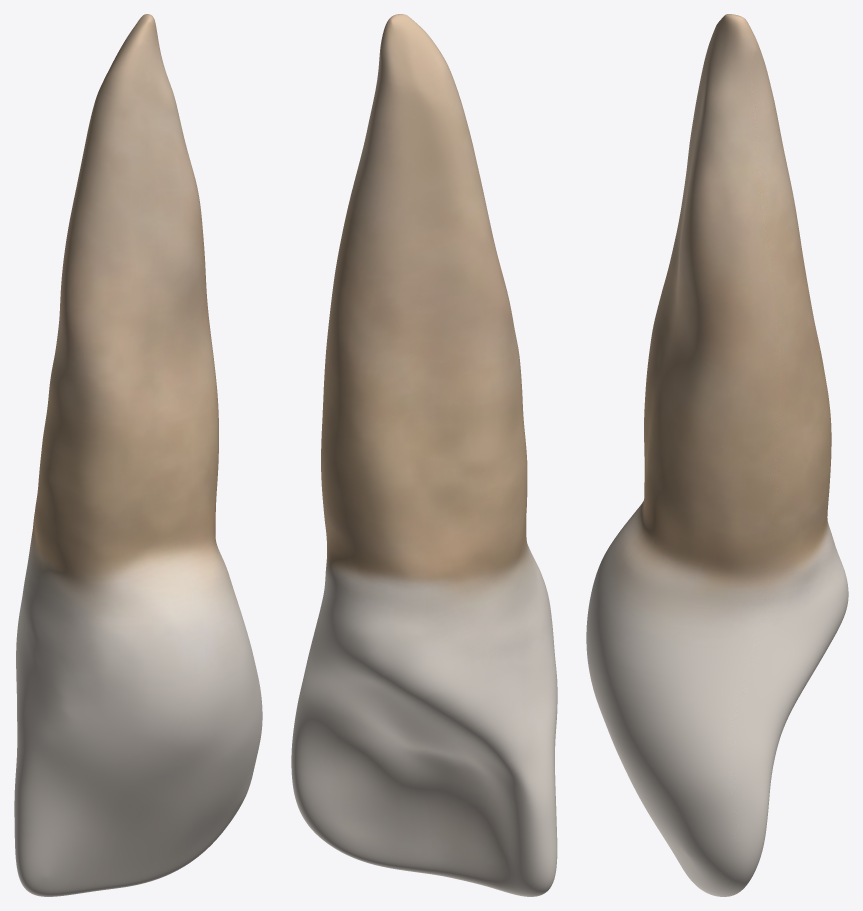
The model's file is primary_upper_left_lateral_incisor_fdi_62.glb.
The picture shows the model from 3 angles, left to right: view 1: azimuth 30°, elevation 25°; view 2: azimuth 150°, elevation 25°; view 3: azimuth 270°, elevation 25°; orthographic projection. The views are drawn at different scales.
Visible parts, largest first — view 1: Object_3, Object_4; view 2: Object_3, Object_4; view 3: Object_3, Object_4.
Part boxes in pixels (x1,y1,x2,y2): Object_3: (14,14,262,896); Object_4: (14,14,262,896); Object_3: (291,14,557,895); Object_4: (291,15,557,896); Object_3: (586,14,848,896); Object_4: (586,16,848,893).
Size of the model in its own units: 1.92 by 6.47 by 1.77.
1 material, 1 textured.
